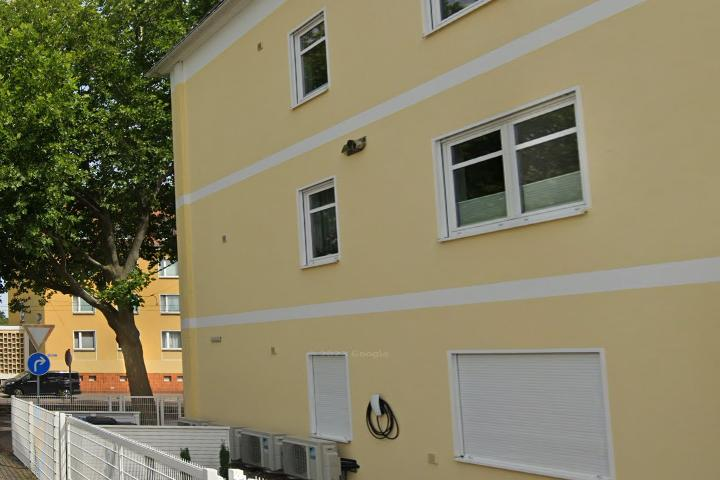traffic_sign: (23, 323, 55, 353), (27, 353, 51, 376)
vehicle: (1, 368, 82, 400)
